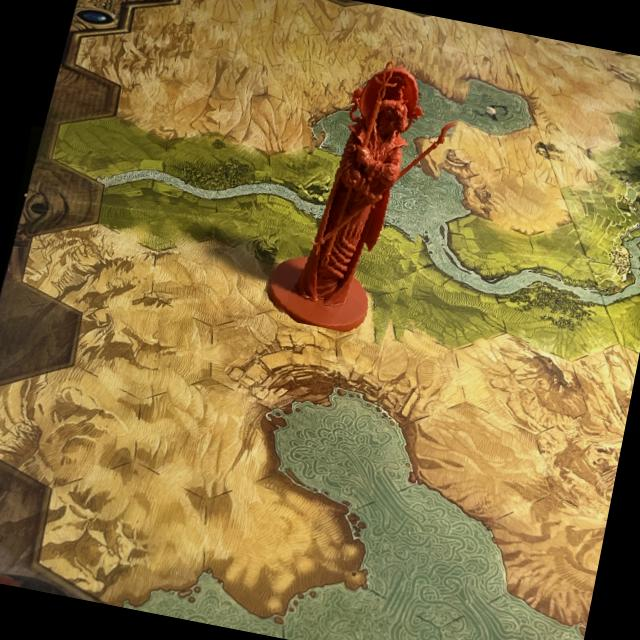amon: (266, 39, 465, 349)
